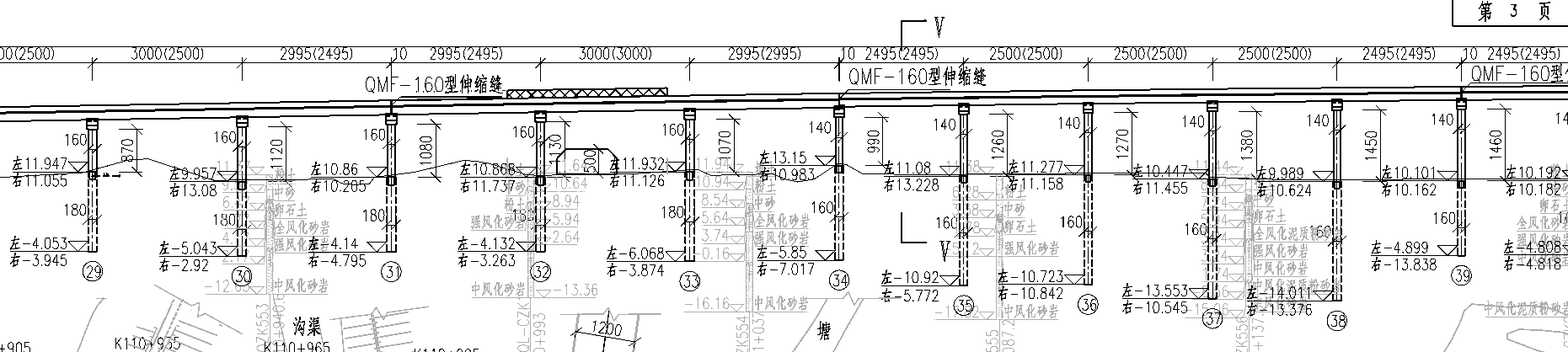C: (1143, 96, 1233, 333), (1017, 97, 1106, 321), (897, 97, 981, 320), (1279, 93, 1356, 336), (1389, 93, 1479, 292), (771, 100, 857, 296), (468, 105, 558, 288), (320, 108, 409, 288), (623, 103, 706, 296), (172, 110, 259, 291), (24, 112, 107, 285)
